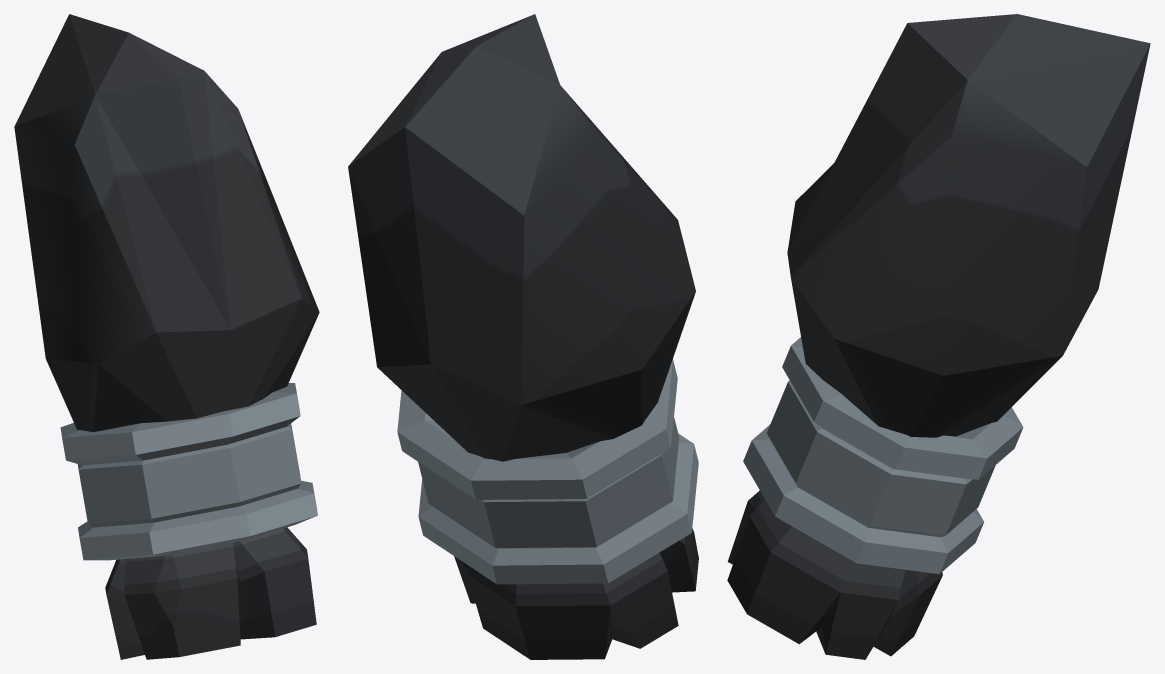
Rendered from SM_Chr_Attach_Beard_Attach_02.fbx.
3 renders of one model, left to right at view 1: azimuth 30°, elevation 25°; view 2: azimuth 150°, elevation 25°; view 3: azimuth 270°, elevation 25°, orthographic. The views are drawn at different scales.
Visible parts, largest first — view 1: SM_Chr_Attach_Beard_Attach_02; view 2: SM_Chr_Attach_Beard_Attach_02; view 3: SM_Chr_Attach_Beard_Attach_02.
Boxes of the visible parts, x1,y1,x2,y2 form: SM_Chr_Attach_Beard_Attach_02: [14, 14, 319, 659]; SM_Chr_Attach_Beard_Attach_02: [348, 14, 698, 659]; SM_Chr_Attach_Beard_Attach_02: [727, 14, 1150, 659].
Size of the model in its own units: 9 by 21.17 by 13.05.
